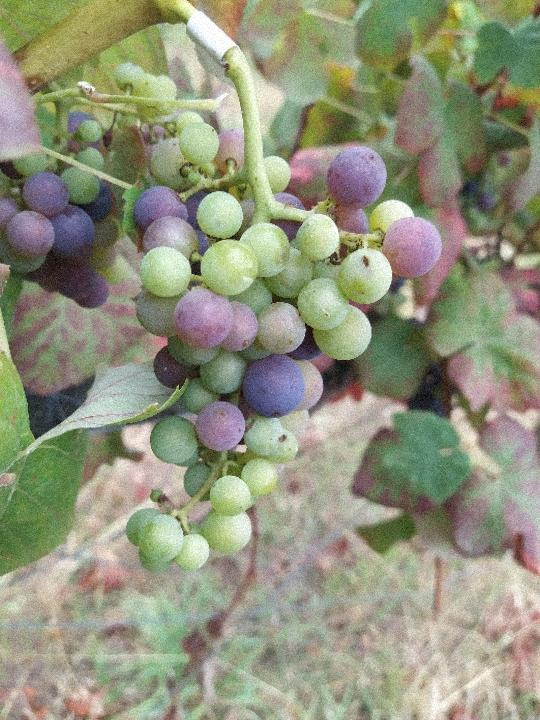grape: (123, 116, 446, 575)
